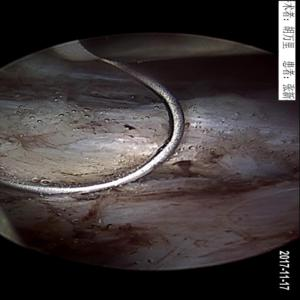film: (62, 156, 298, 202)
